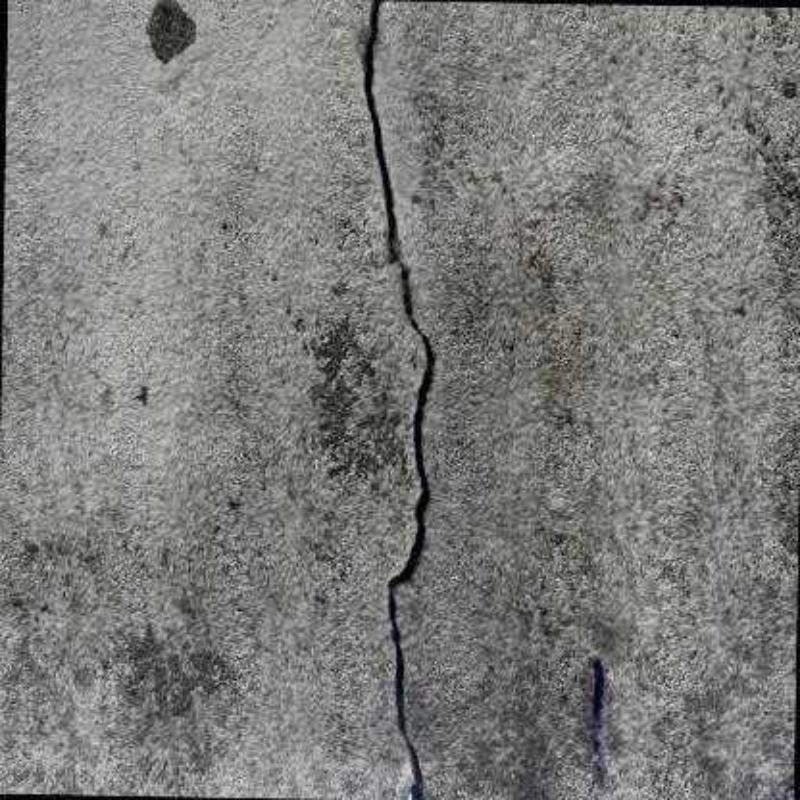pothole: (364, 0, 433, 800)
